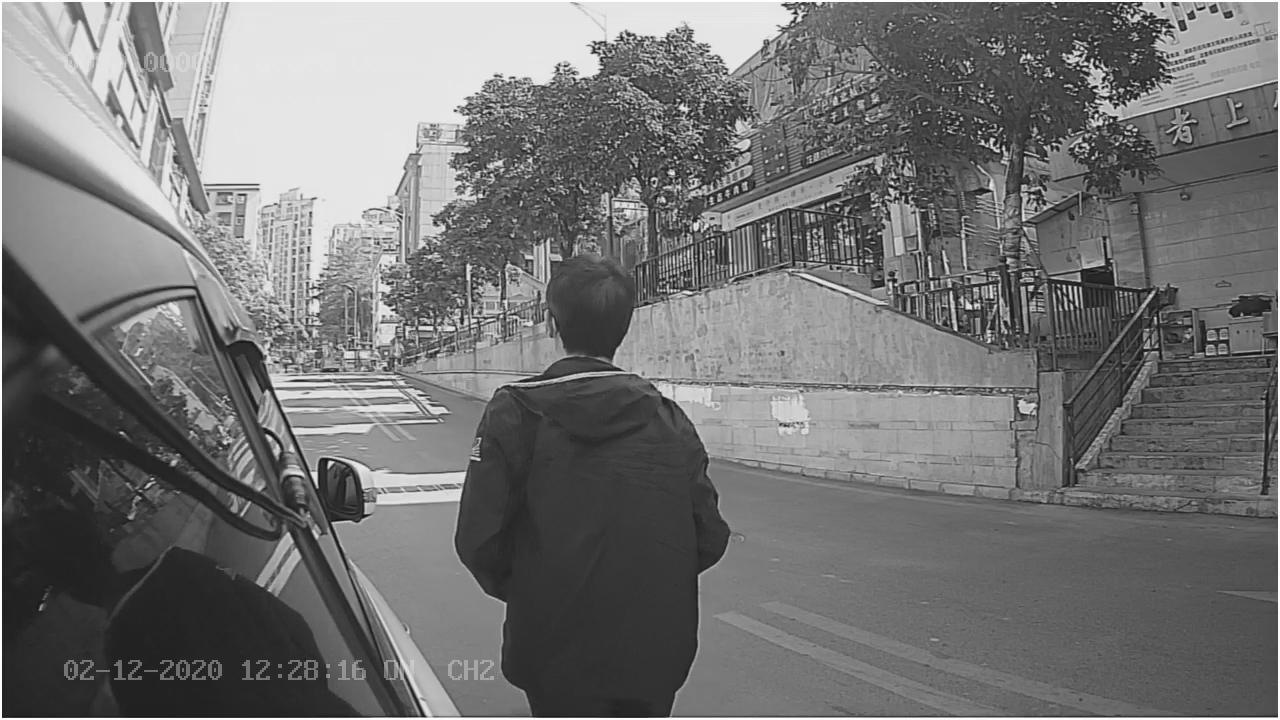person: (453, 228, 733, 600)
